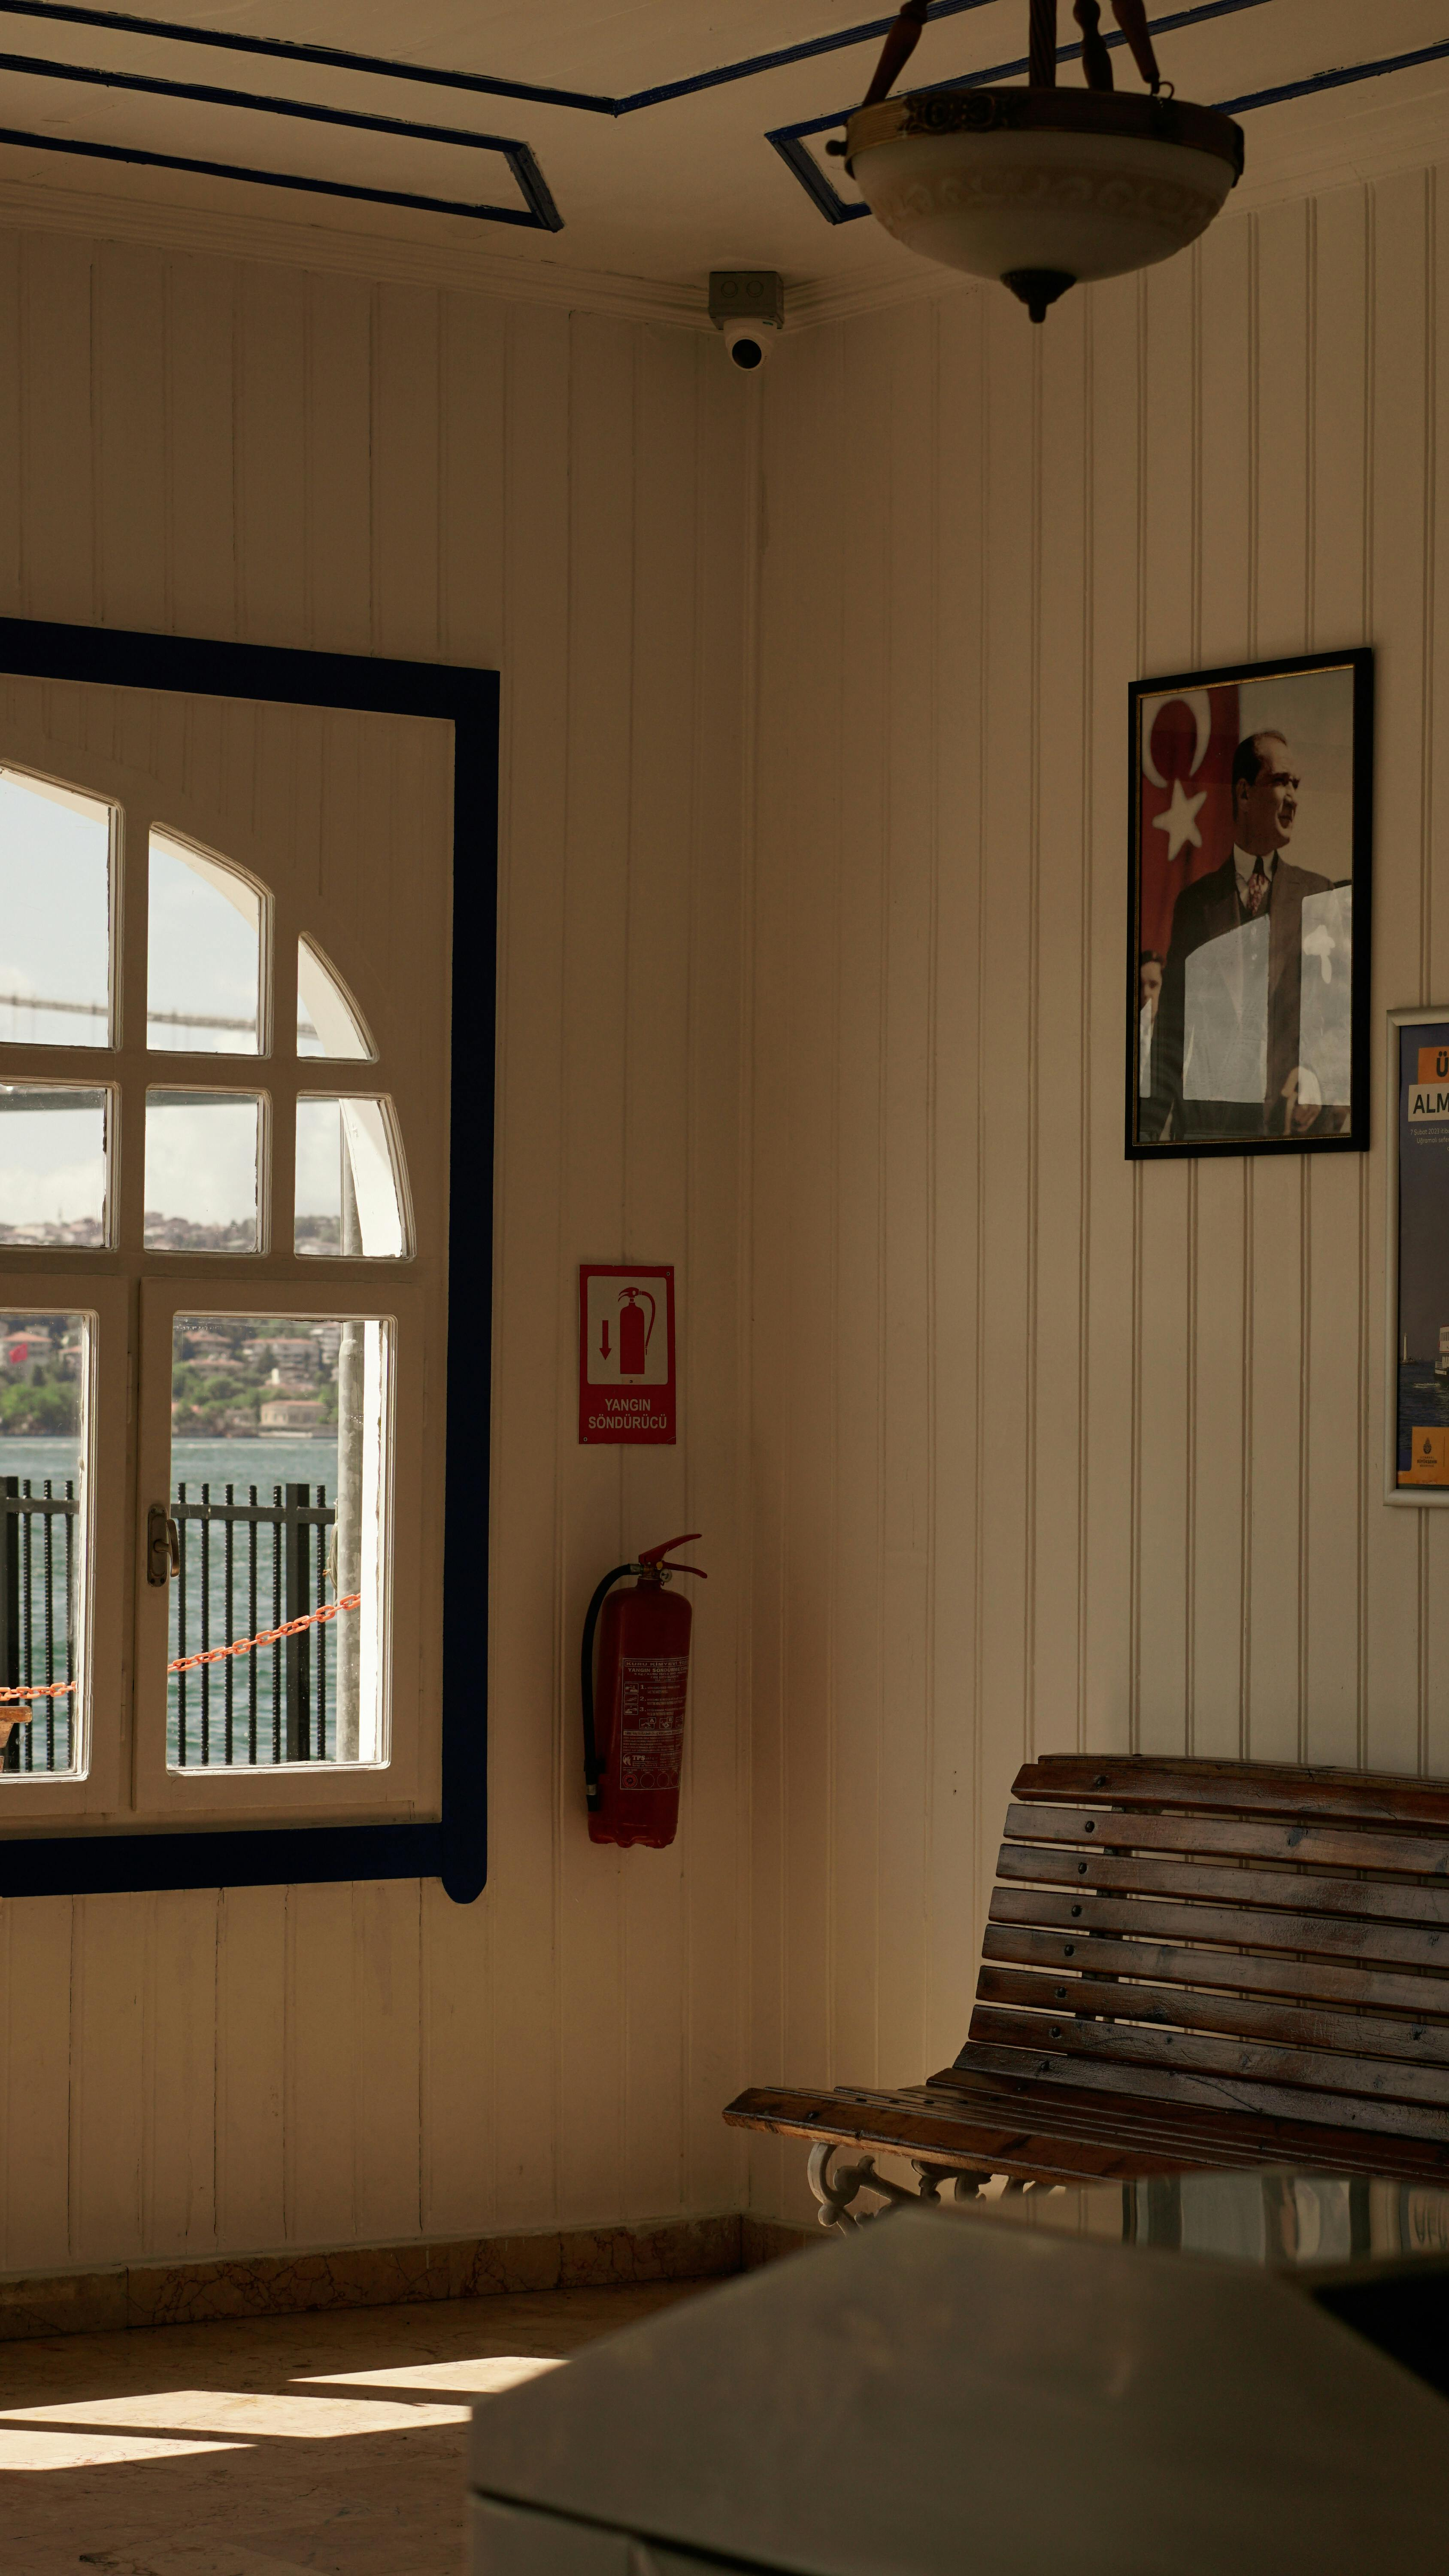extintor: (564, 1522, 722, 1859)
